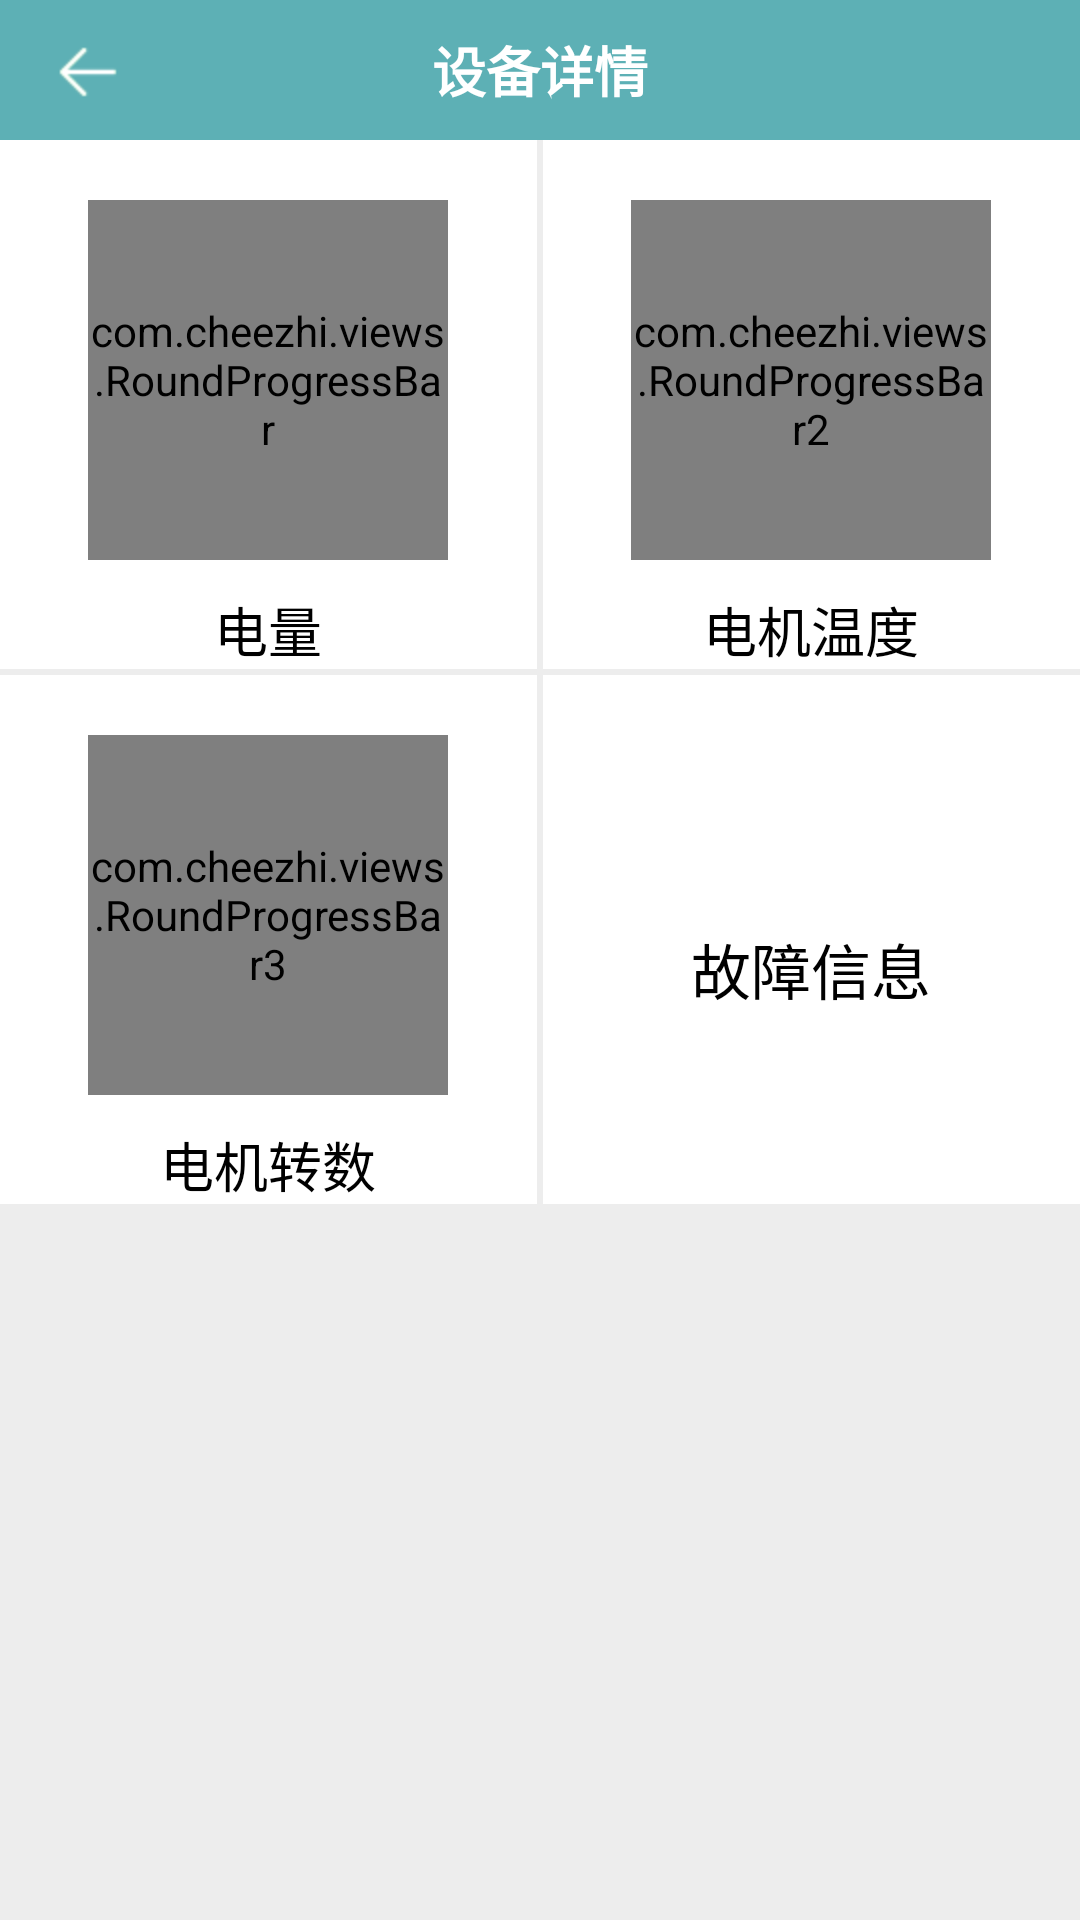

Screen size 1080 × 1920. Icon name, then its center in pixels as [x,y]:
lyy top back: [88,72]
